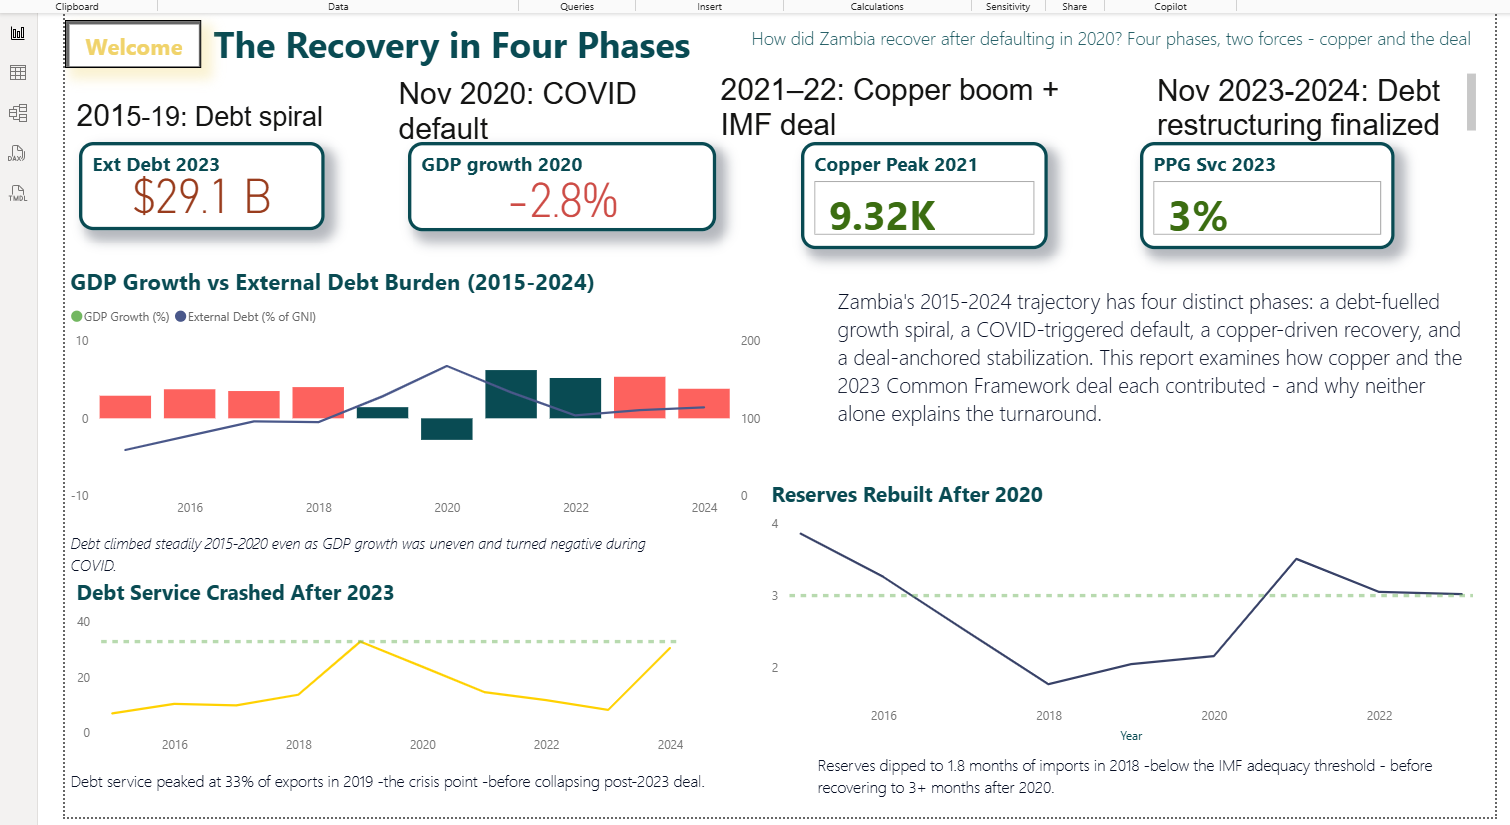

The dashboard page shown, as its layout file describes it:
{"tool":"powerbi","page":{"name":"Overview","canvas":[1280,720],"ordinal":1},"visuals":[{"type":"textbox","box":[5.4,53.2,281.2,70.3],"z":0},{"type":"textbox","box":[293.9,53.2,288.5,76.6],"z":1000},{"type":"textbox","box":[582.3,49.6,328.1,73.9],"z":2000},{"type":"textbox","box":[972.6,49.6,295.7,73.9],"z":3000},{"type":"kpi","title":"GDP growth 2020","fields":{"Indicator":["Macro_Annual.GDP Growth 2023"],"TrendLine":["Macro_Annual.Year"]},"box":[307.5,115.7,276.2,79.8],"z":4000},{"type":"kpi","title":"Ext Debt 2023 ","fields":{"Indicator":["Macro_Annual.Ext Debt 2023"],"TrendLine":["Macro_Annual.Year"]},"box":[12.3,115.7,219.8,78.7],"z":5000},{"type":"cardVisual","title":"Copper Peak 2021 ","fields":{"Data":["Copper production/Price (USD/MT, Nominal).Copper Peak 2021"]},"box":[659,115.5,221.2,95.7],"z":6000},{"type":"lineClusteredColumnComboChart","title":"GDP Growth vs External Debt Burden (2015-2024)","fields":{"Category":["Macro_Annual.Year"],"Y":["Sum(Macro_Annual.GDP_Growth_Pct)"],"Y2":["Sum(Macro_Annual.ExtDebt_PctGNI)"]},"box":[0,225.4,628.3,235.3],"z":7000},{"type":"lineChart","title":"Debt Service Crashed After 2023","fields":{"Y":["Sum(Macro_Annual.DebtService_PctExports)"],"Category":["Macro_Annual.Year"]},"box":[5.4,505.7,553.5,167.7],"z":8000},{"type":"lineChart","title":"Reserves Rebuilt After 2020","fields":{"Y":["Sum(Macro_Annual.ForexReserves_MonthsImports)"],"Category":["Macro_Annual.Year"]},"box":[627.7,418.1,640,241.3],"z":9000},{"type":"textbox","box":[128.2,0,482,53.3],"z":10000},{"type":"textbox","box":[610.2,6.3,658.1,43.3],"z":11000},{"type":"textbox","box":[686.7,240.2,581.6,161.5],"z":12000},{"type":"textbox","box":[0,460.6,542.6,55.9],"z":13000},{"type":"textbox","box":[0,673.4,592.2,46.9],"z":14000},{"type":"textbox","box":[668.8,658.9,587.7,61.3],"z":15000},{"type":"actionButton","box":[0,6.3,121.9,43.3],"z":16000},{"type":"cardVisual","title":"PPG Svc 2023","fields":{"Data":["Debt_Detail.PPG Svc 2023"]},"box":[962.3,115.5,228.4,95.7],"z":17000}]}

Visuals, with their boxes on the page's 1280x720 design canvas (x1, y1, x2, y2). These are canvas units, not pixel positions in the 1510x825 screenshot, which may show the page scaled, cropped or inside an application window:
textbox: 5,53,287,124
textbox: 294,53,582,130
textbox: 582,50,910,124
textbox: 973,50,1268,124
"GDP growth 2020" kpi: 308,116,584,196
"Ext Debt 2023 " kpi: 12,116,232,194
"Copper Peak 2021 " cardVisual: 659,116,880,211
"GDP Growth vs External Debt Burden (2015-2024)" lineClusteredColumnComboChart: 0,225,628,461
"Debt Service Crashed After 2023" lineChart: 5,506,559,673
"Reserves Rebuilt After 2020" lineChart: 628,418,1268,659
textbox: 128,0,610,53
textbox: 610,6,1268,50
textbox: 687,240,1268,402
textbox: 0,461,543,516
textbox: 0,673,592,720
textbox: 669,659,1256,720
actionButton: 0,6,122,50
"PPG Svc 2023" cardVisual: 962,116,1191,211
